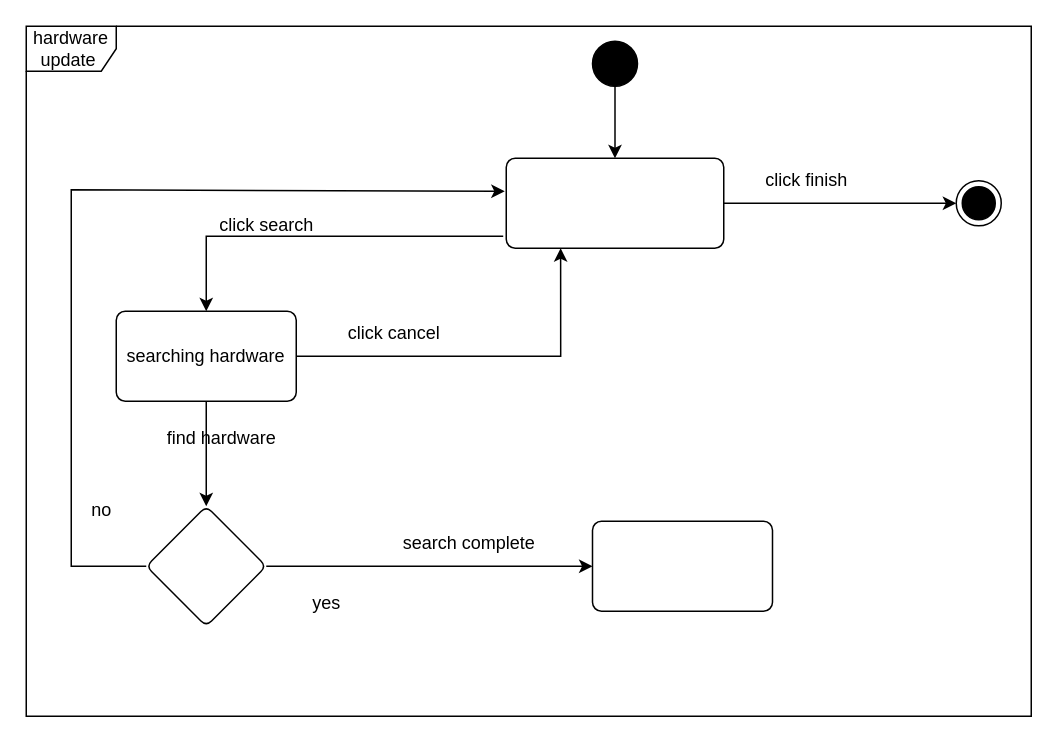
This 1058x743 diagram has some shape labels left out. Each missing label, with the centre of its shape:
"display new hardware found" belongs at (x=681, y=565).
"displayUpdateWindow" belongs at (x=614, y=202).
